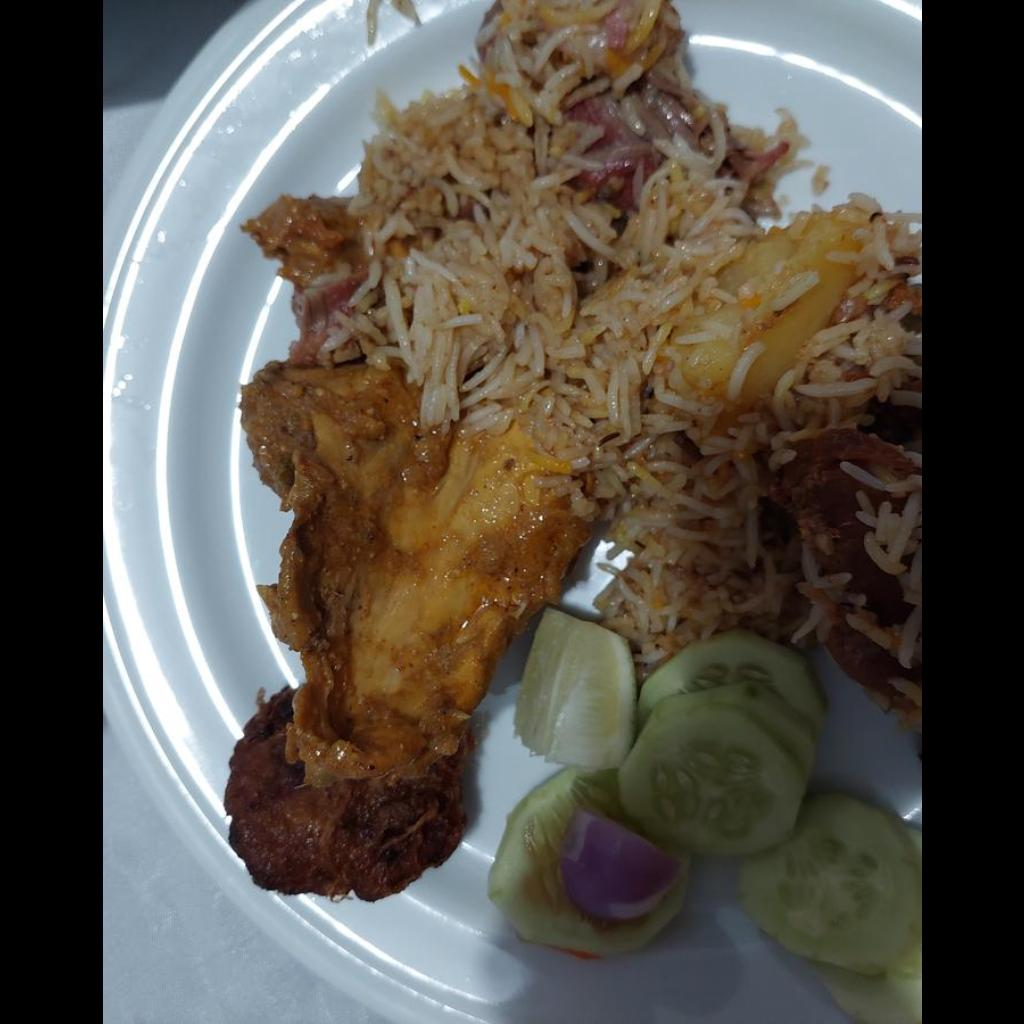biriyani: (242, 0, 920, 727)
chicken: (224, 358, 590, 901)
cucumber: (488, 634, 920, 975)
lemon: (514, 609, 634, 769)
